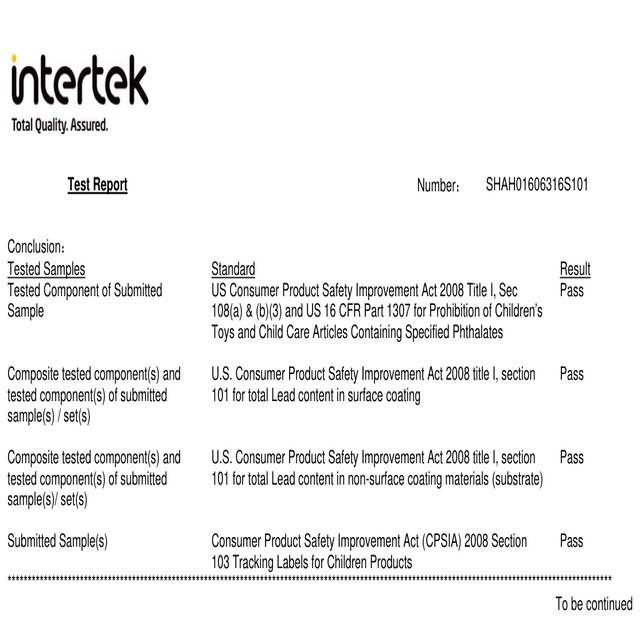intertek: (7, 51, 154, 108)
